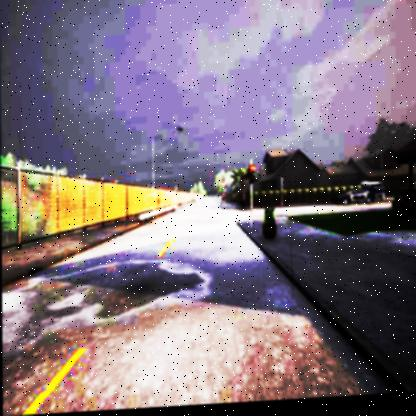vehicle: (333, 190, 375, 210), (361, 184, 386, 202)
